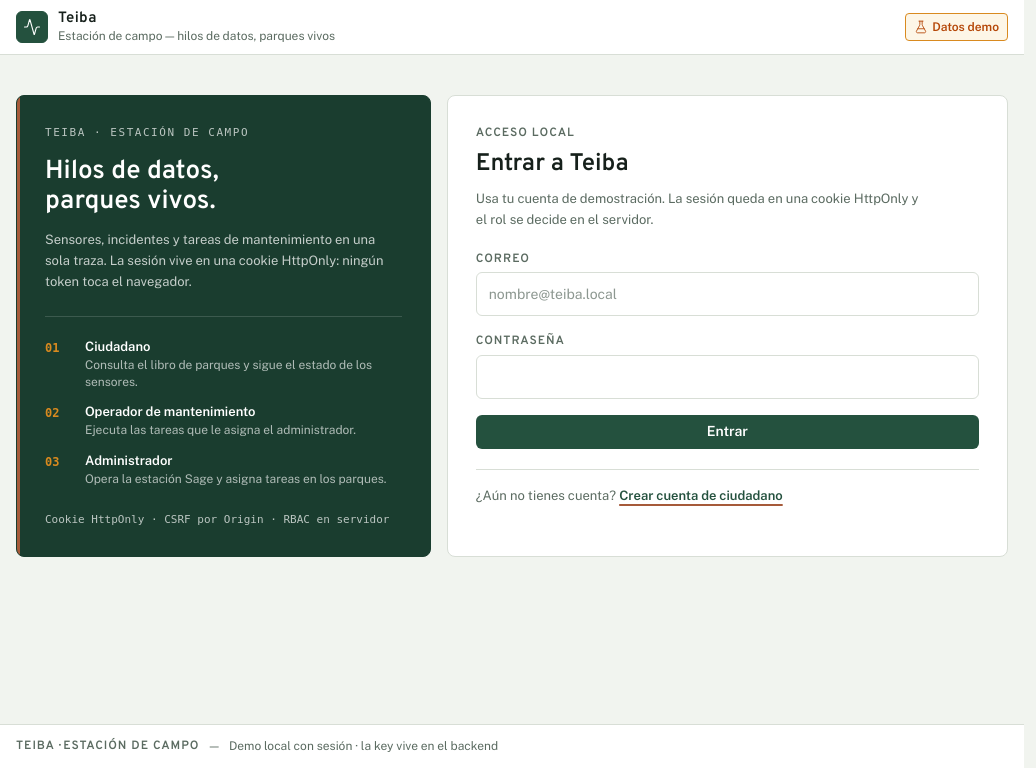
it: LoginView › login admin navega a la estación
This screenshot has width=1036, height=768.
Expected: the heading "Entrar a Teiba" is shown, left=476, top=149, right=629, bottom=179
Step 1. Type "admin@teiba.local" into the field labelled "Correo" → (727, 294), box left=476, top=272, right=979, bottom=316
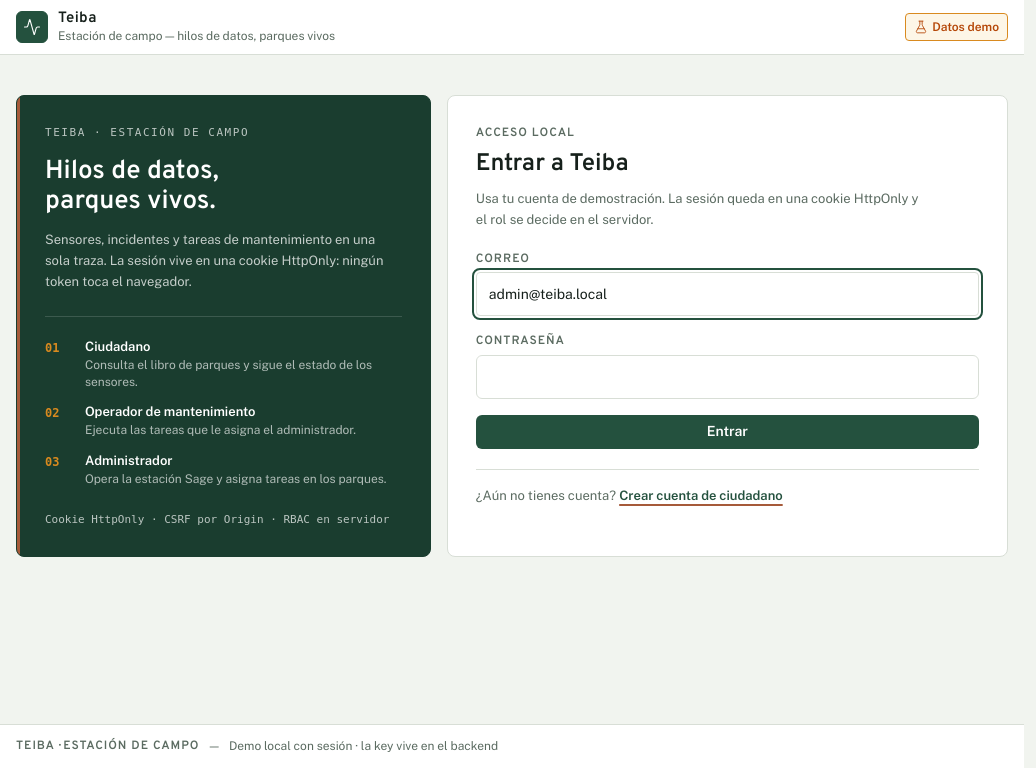
Step 2. Type "admin12345678" into the password field labelled "Contraseña" → (727, 377), box left=476, top=355, right=979, bottom=399
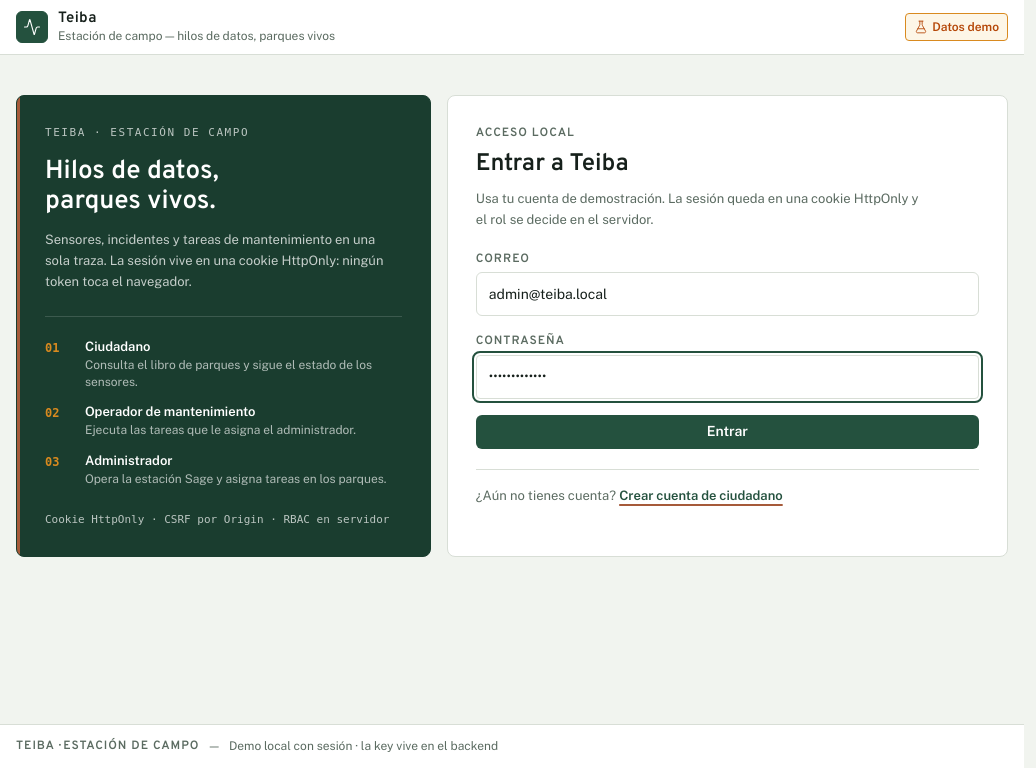
Step 3. Click the button "Entrar" → (727, 432), box left=476, top=415, right=979, bottom=449
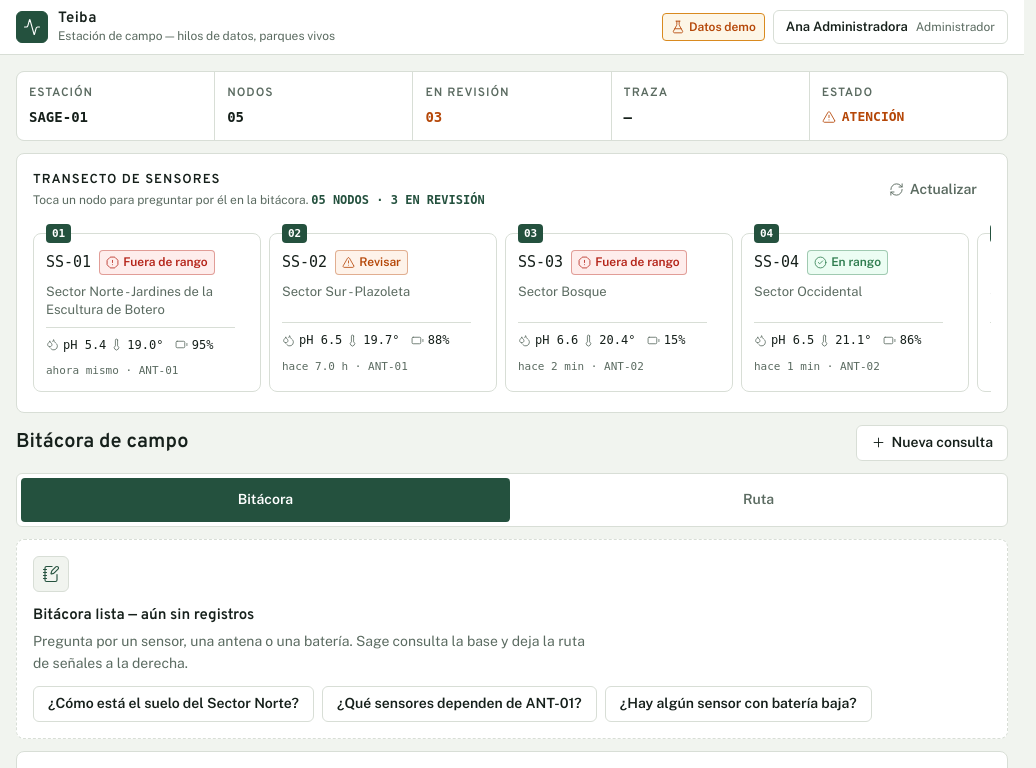
Result: the heading "Bitácora de campo" is shown at left=16, top=428, right=188, bottom=458
